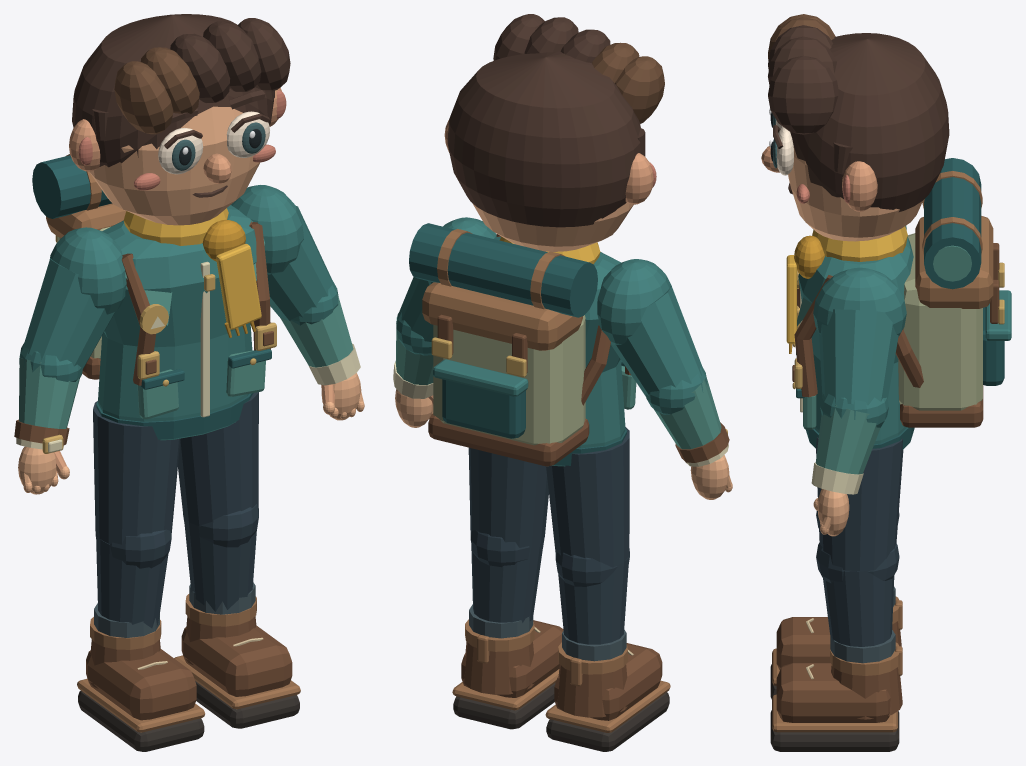
The model's file is traveler.glb.
3 renders of one model, left to right at view 1: azimuth 30°, elevation 25°; view 2: azimuth 150°, elevation 25°; view 3: azimuth 270°, elevation 25°, orthographic. The views are drawn at different scales.
Visible parts, largest first — view 1: Tailored jacket, Trouser thigh, Face, Sculpted hair cap, Trouser thigh.001, Upper sleeve, Boot foot.001, Boot foot, Trouser shin, Trouser shin.001, Shoulder seam, Shoulder seam.001 (+42 smaller); view 2: Sculpted hair cap, Bedroll, Trouser thigh, Canvas pack, Trouser thigh.001, Top flap, Upper sleeve, Trouser shin, Shoulder seam, Trouser shin.001, Tailored jacket, Outer pocket (+36 smaller); view 3: Sculpted hair cap, Canvas pack, Upper sleeve.001, Trouser thigh.001, Boot foot.001, Bedroll, Trouser shin.001, Face, Swept fringe.004, Tailored jacket, Shoulder seam.001, Top flap (+27 smaller).
Boxes of the visible parts, x1=… form: Tailored jacket: x1=98, y1=205, x2=256, y2=440; Trouser thigh: x1=93, y1=401, x2=180, y2=544; Face: x1=89, y1=106, x2=266, y2=225; Sculpted hair cap: x1=72, y1=14, x2=273, y2=167; Trouser thigh.001: x1=178, y1=392, x2=258, y2=526; Upper sleeve: x1=22, y1=258, x2=114, y2=370; Boot foot.001: x1=181, y1=625, x2=292, y2=696; Boot foot: x1=86, y1=649, x2=196, y2=720; Trouser shin: x1=96, y1=536, x2=168, y2=628; Trouser shin.001: x1=184, y1=517, x2=256, y2=611; Shoulder seam: x1=49, y1=227, x2=126, y2=314; Shoulder seam.001: x1=231, y1=185, x2=303, y2=274; Sculpted hair cap: x1=447, y1=51, x2=641, y2=227; Bedroll: x1=409, y1=223, x2=597, y2=317; Trouser thigh: x1=546, y1=427, x2=629, y2=567; Canvas pack: x1=433, y1=315, x2=585, y2=445; Trouser thigh.001: x1=468, y1=447, x2=548, y2=548; Top flap: x1=422, y1=282, x2=582, y2=350; Upper sleeve: x1=610, y1=285, x2=703, y2=396; Trouser shin: x1=558, y1=557, x2=629, y2=644; Shoulder seam: x1=597, y1=259, x2=671, y2=345; Trouser shin.001: x1=471, y1=539, x2=543, y2=622; Tailored jacket: x1=494, y1=236, x2=625, y2=466; Outer pocket: x1=442, y1=379, x2=525, y2=438; Sculpted hair cap: x1=790, y1=33, x2=949, y2=211; Canvas pack: x1=898, y1=233, x2=982, y2=410; Upper sleeve.001: x1=819, y1=309, x2=898, y2=405; Trouser thigh.001: x1=816, y1=437, x2=903, y2=571; Boot foot.001: x1=776, y1=663, x2=890, y2=722; Bedroll: x1=924, y1=158, x2=981, y2=289; Trouser shin.001: x1=823, y1=570, x2=894, y2=646; Face: x1=788, y1=146, x2=922, y2=241; Swept fringe.004: x1=768, y1=55, x2=838, y2=134; Tailored jacket: x1=798, y1=237, x2=913, y2=444; Shoulder seam.001: x1=813, y1=267, x2=906, y2=336; Top flap: x1=915, y1=216, x2=993, y2=308.
Size of the model in its own units: 1.07 by 2.09 by 0.69.
